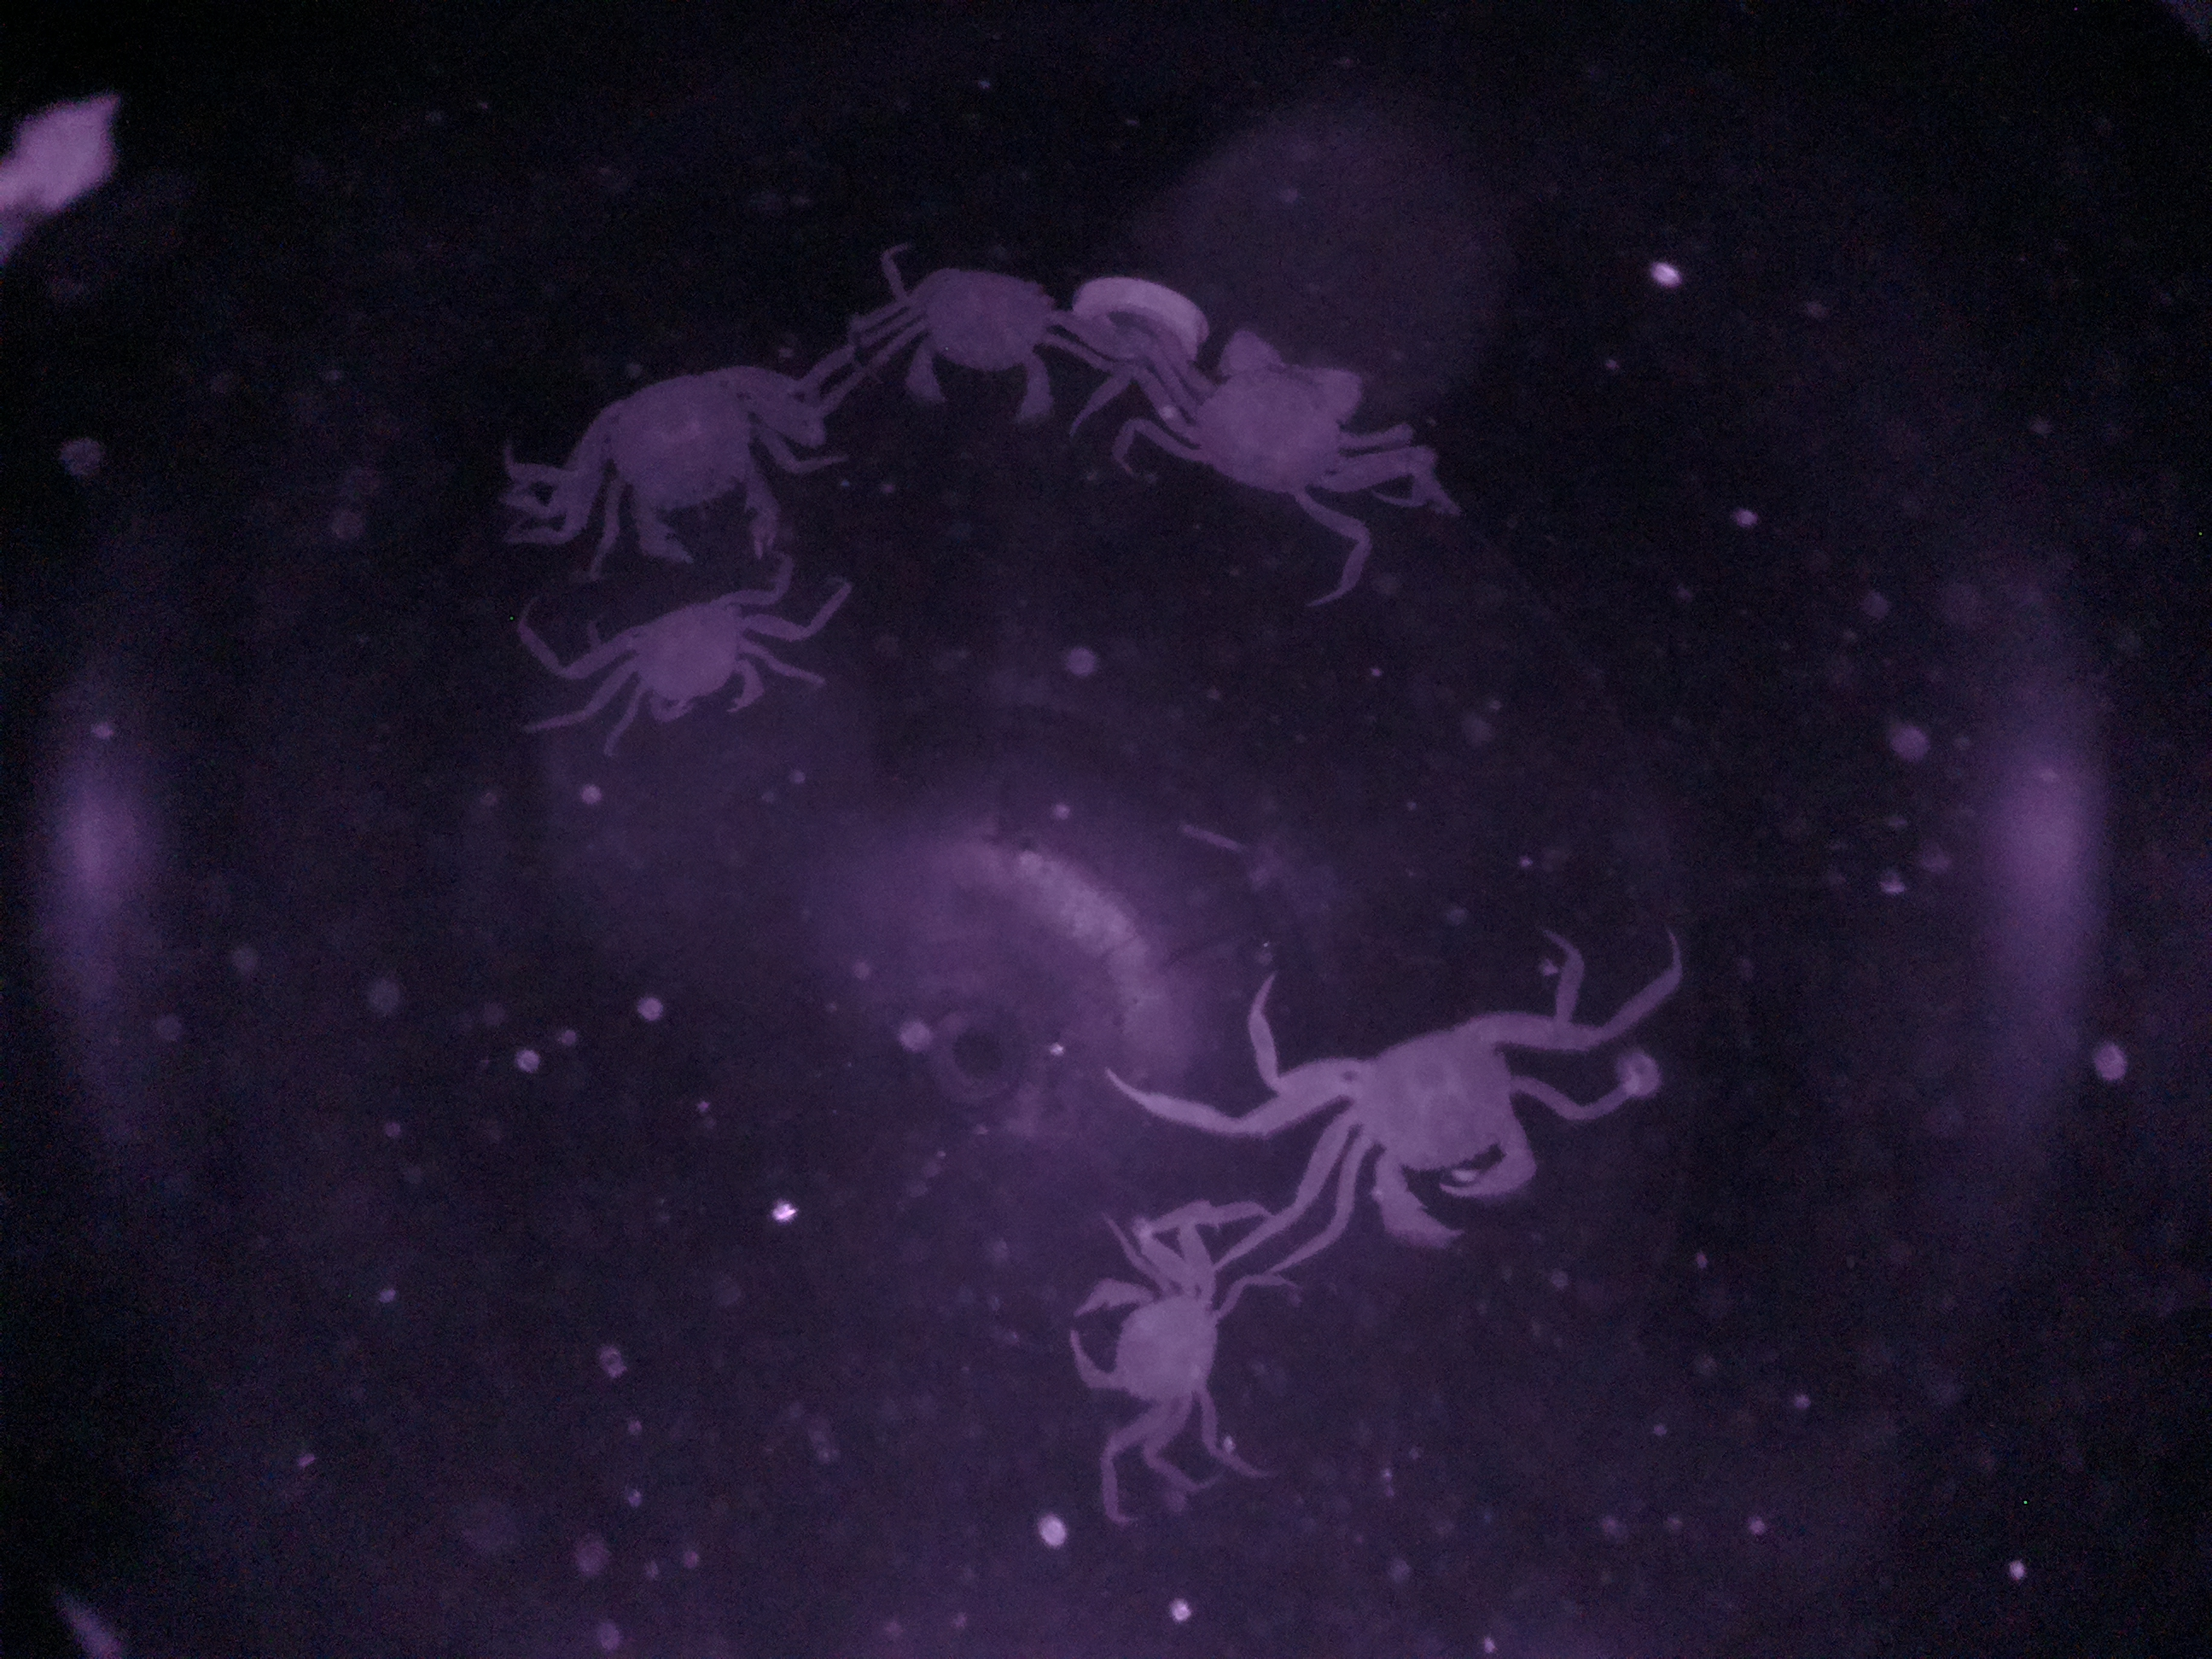Crab: (1299, 995, 1552, 1258), (538, 361, 815, 558), (1148, 331, 1409, 526), (1047, 1244, 1252, 1450), (885, 253, 1078, 439), (596, 580, 784, 751)
